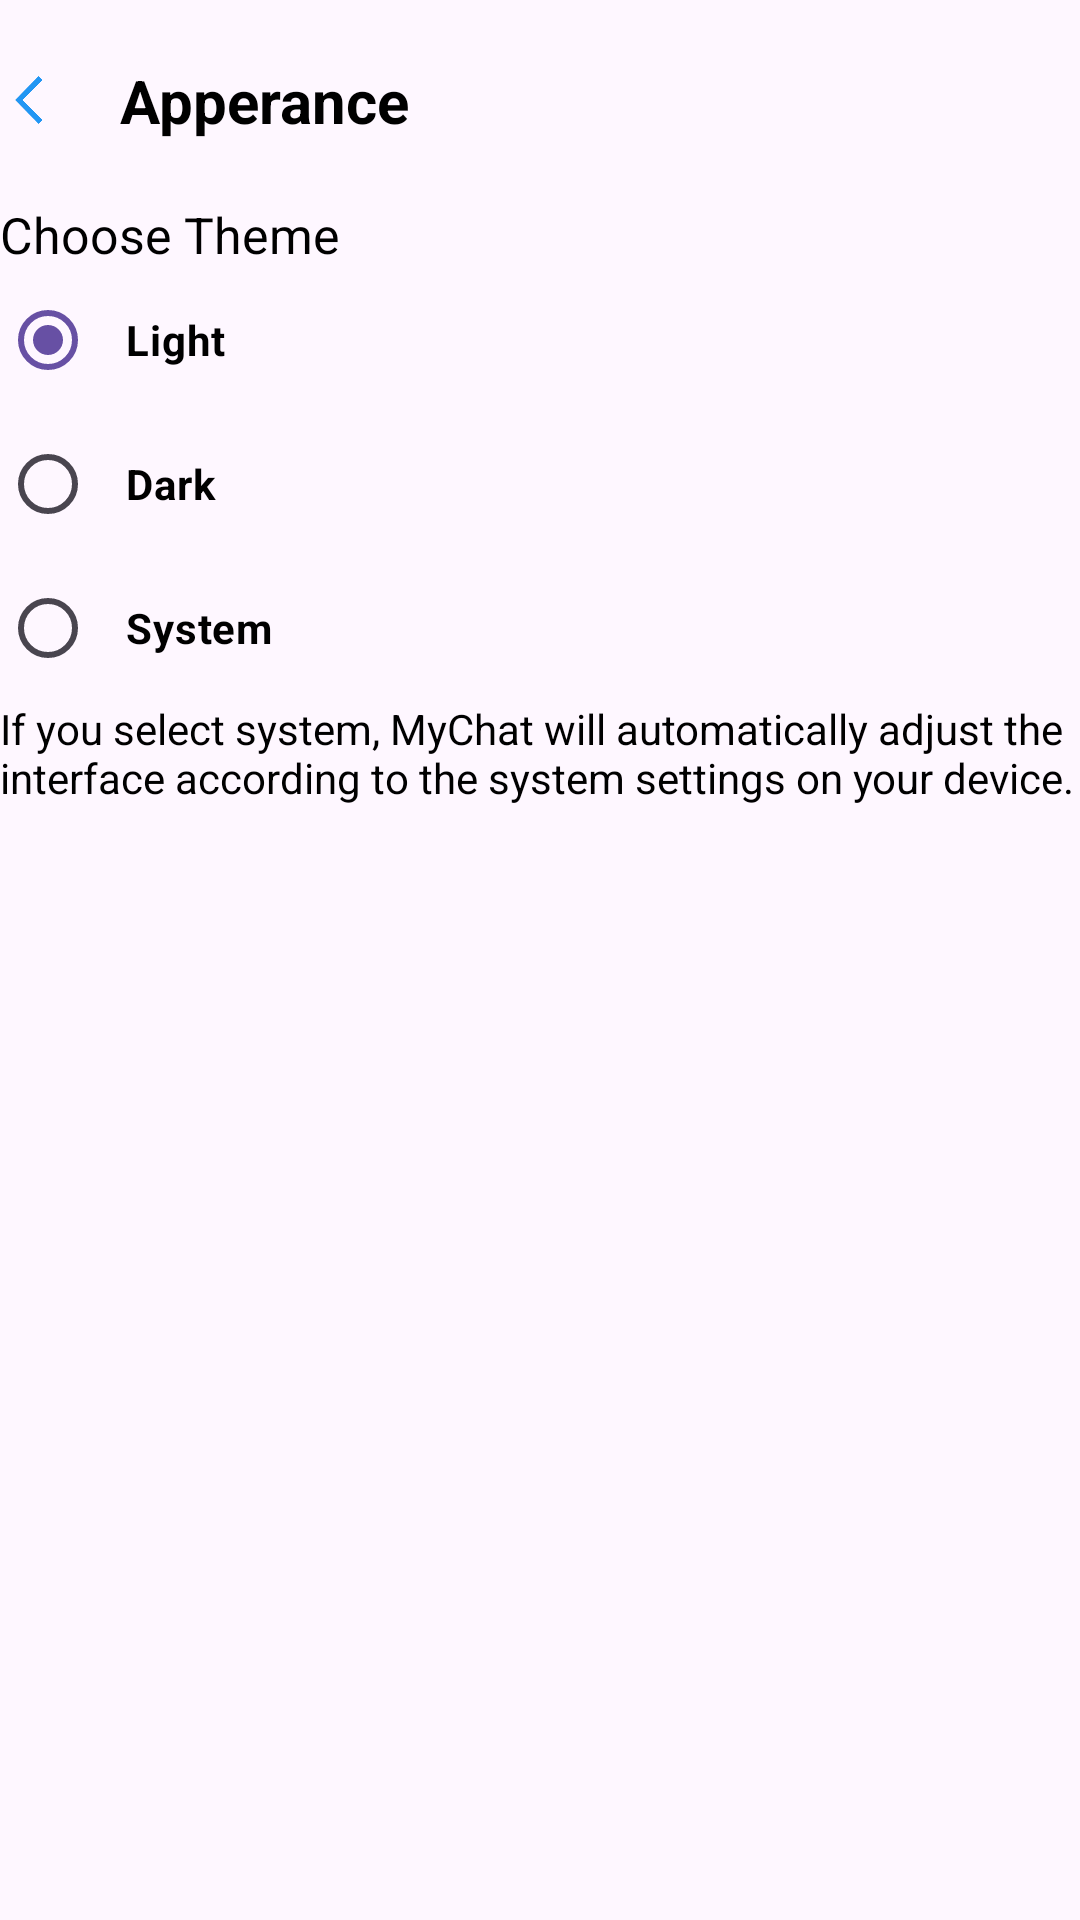

Icons on this 1080w x 1920h Android screen, each with its box as bbox=(x1, y1, x2, y2):
back: bbox=(15, 76, 42, 124)
